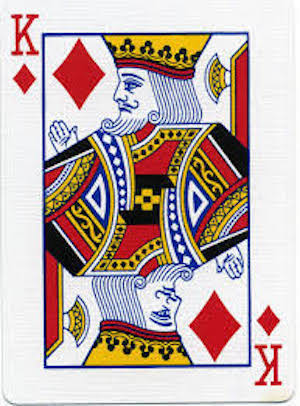KingOfDiamonds: (7, 3, 296, 406)
